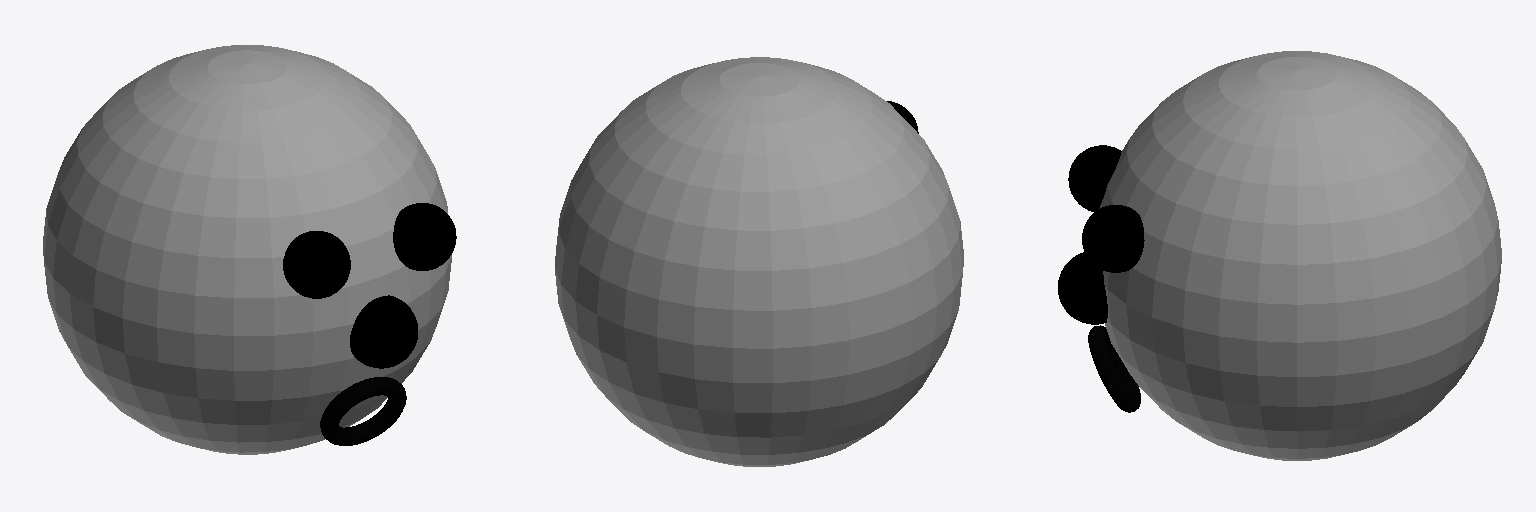
File: Bear_Head.obj
3 views of the same model, side by side, from view 1: azimuth 30°, elevation 25°; view 2: azimuth 150°, elevation 25°; view 3: azimuth 270°, elevation 25° (orthographic).
Visible parts, largest first — view 1: Sphere.001, Sphere.004, Sphere.002, Sphere.003, Torus; view 2: Sphere.001; view 3: Sphere.001, Sphere.003, Sphere.004, Sphere.002, Torus.
Boxes of the visible parts, x1,y1,x2,y2 form: Sphere.001: [43, 45, 451, 454]; Sphere.004: [350, 295, 417, 368]; Sphere.002: [283, 231, 350, 298]; Sphere.003: [393, 203, 456, 270]; Torus: [320, 377, 406, 445]; Sphere.001: [555, 57, 963, 466]; Sphere.001: [1099, 51, 1501, 460]; Sphere.003: [1082, 205, 1144, 272]; Sphere.004: [1058, 252, 1107, 324]; Sphere.002: [1068, 145, 1121, 211]; Torus: [1088, 325, 1140, 412].
Bounding box in the file's own units: 1.2 × 1.2 × 1.3.